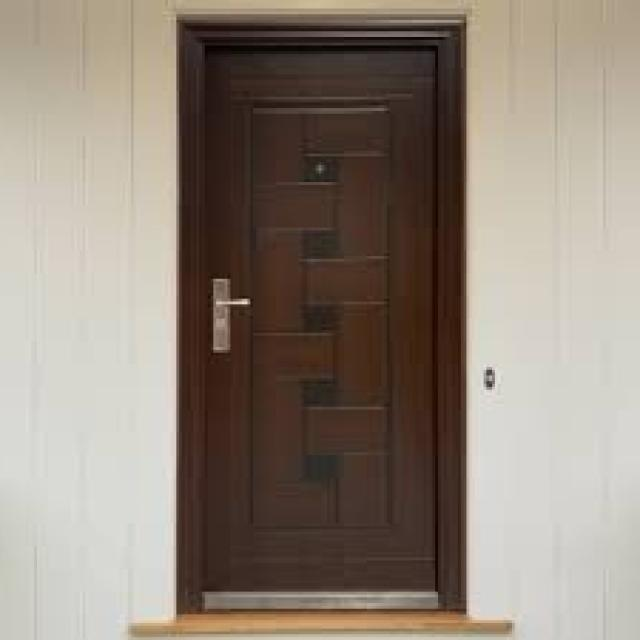door: (188, 36, 446, 607)
